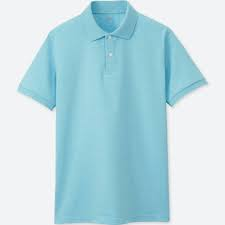S_polo shirt: (22, 6, 213, 225)
